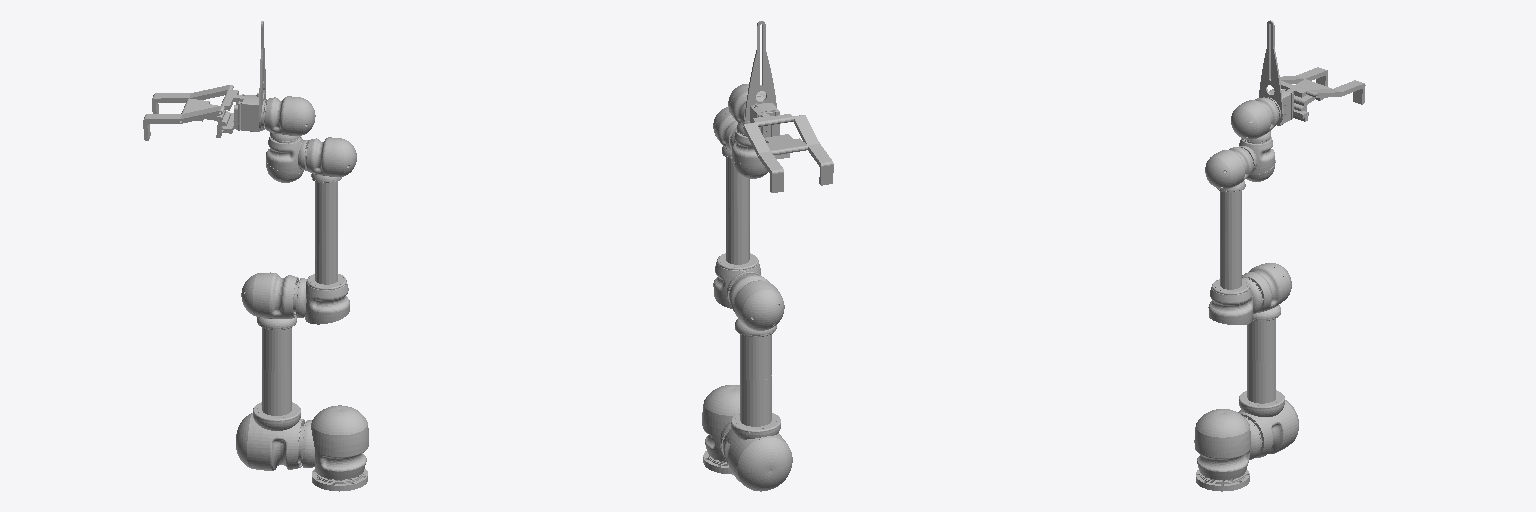
robot.urdf — jy5_v5a:
<robot name="jy5_v5a">
  <link name="Base_Link">
    <inertial>
      <origin
        xyz="2.2716E-05 1.4182E-08 0.0058667"
        rpy="0 0 0" />
      <mass value="0.13935" />
      <inertia
        ixx="0"
        ixy="0"
        ixz="0"
        iyy="0"
        iyz="0"
        izz="0" />
    </inertial>
    <visual>
      <origin
        xyz="0 0 0"
        rpy="0 0 0" />
      <geometry>
        <mesh filename="package://jy5_description/meshes/Base_Link.STL" />
      </geometry>
      <material name="">
        <color rgba="0.75294 0.75294 0.75294 1" />
      </material>
    </visual>
    <collision>
      <origin
        xyz="0 0 0"
        rpy="0 0 0" />
      <geometry>
        <mesh filename="package://jy5_description/meshes/Base_Link.STL" />
      </geometry>
    </collision>
  </link>
  <link name="Link1">
    <inertial>
      <origin
        xyz="-2.2065E-06 -0.010425 0.047723"
        rpy="0 0 0" />
      <mass
        value="0.82213" />
      <inertia
        ixx="0.0012698"
        ixy="-1.3651E-08"
        ixz="9.1896E-09"
        iyy="0.0011703"
        iyz="-6.1121E-05"
        izz="9.9506E-05" />
    </inertial>
    <visual>
      <origin
        xyz="0 0 0"
        rpy="0 0 0" />
      <geometry>
        <mesh
          filename="package://jy5_description/meshes/Link1.STL" />
      </geometry>
      <material
        name="">
        <color
          rgba="0.75294 0.75294 0.75294 1" />
      </material>
    </visual>
    <collision>
      <origin
        xyz="0 0 0"
        rpy="0 0 0" />
      <geometry>
        <mesh
          filename="package://jy5_description/meshes/Link1.STL" />
      </geometry>
    </collision>
  </link>
  <joint
    name="Joint1"
    type="revolute">
    <origin
      xyz="-0.00041285 0 0.027"
      rpy="0 0 0" />
    <parent
      link="Base_Link" />
    <child
      link="Link1" />
    <axis
      xyz="0 0 1" />
   <limit effort="30" lower="-4.1415" upper="-0.3925" velocity="1.517"/>
  </joint>
  <link
    name="Link2">
    <inertial>
      <origin
        xyz="1.2982E-06 -0.051969 0.15827"
        rpy="0 0 0" />
      <mass
        value="1.6841" />
      <inertia
        ixx="0.04641"
        ixy="8.0107E-08"
        ixz="1.535E-07"
        iyy="0.0448"
        iyz="0.00067411"
        izz="0.0016102" />
    </inertial>
    <visual>
      <origin
        xyz="0 0 0"
        rpy="0 0 0" />
      <geometry>
        <mesh
          filename="package://jy5_description/meshes/Link2.STL" />
      </geometry>
      <material
        name="">
        <color
          rgba="0.75294 0.75294 0.75294 1" />
      </material>
    </visual>
    <collision>
      <origin
        xyz="0 0 0"
        rpy="0 0 0" />
      <geometry>
        <mesh
          filename="package://jy5_description/meshes/Link2.STL" />
      </geometry>
    </collision>
  </link>
  <joint
    name="Joint2"
    type="revolute">
    <origin
      xyz="0 -0.091885 0.06"
      rpy="0 0 0" />
    <parent
      link="Link1" />
    <child
      link="Link2" />
    <axis
      xyz="0 1 0" />
    <limit effort="30" lower="-1.04" upper="1.04" velocity="1.517"/>
  </joint>
  <link
    name="Link3">
    <inertial>
      <origin
        xyz="3.32536143180385E-07 0.0615729531368279 0.155533058771834"
        rpy="0 0 0" />
      <mass
        value="0.98230112631782" />
      <inertia
        ixx="0.0189819550362105"
        ixy="3.10240510672774E-08"
        ixz="1.71022764085144E-07"
        iyy="0.0188226520390792"
        iyz="-0.000117796335989016"
        izz="0.000159303021328198" />
    </inertial>
    <visual>
      <origin
        xyz="0 0 0"
        rpy="0 0 0" />
      <geometry>
        <mesh
          filename="package://jy5_description/meshes/Link3.STL" />
      </geometry>
      <material
        name="">
        <color
          rgba="0.752941176470588 0.752941176470588 0.752941176470588 1" />
      </material>
    </visual>
    <collision>
      <origin
        xyz="0 0 0"
        rpy="0 0 0" />
      <geometry>
        <mesh
          filename="package://jy5_description/meshes/Link3.STL" />
      </geometry>
    </collision>
  </link>
  <joint
    name="Joint3"
    type="revolute">
    <origin
      xyz="0 -0.0065 0.38388"
      rpy="0 0 0" />
    <parent
      link="Link2" />
    <child
      link="Link3" />
    <axis
      xyz="0 1 0" />
    <limit effort="30" lower="-3.14" upper="0" velocity="1.517"/>
  </joint>
  <link
    name="Link4">
    <inertial>
      <origin
        xyz="5.79292420657142E-07 -0.0470319002859306 0.00891972870701374"
        rpy="0 0 0" />
      <mass
        value="0.23644132750411" />
      <inertia
        ixx="0.000147037590267084"
        ixy="8.03652582512052E-09"
        ixz="2.48900088533533E-08"
        iyy="0.000136894555463898"
        iyz="-6.35149193323197E-06"
        izz="1.01430537193422E-05" />
    </inertial>
    <visual>
      <origin
        xyz="0 0 0"
        rpy="0 0 0" />
      <geometry>
        <mesh
          filename="package://jy5_description/meshes/Link4.STL" />
      </geometry>
      <material
        name="">
        <color
          rgba="0.752941176470588 0.752941176470588 0.752941176470588 1" />
      </material>
    </visual>
    <collision>
      <origin
        xyz="0 0 0"
        rpy="0 0 0" />
      <geometry>
        <mesh
          filename="package://jy5_description/meshes/Link4.STL" />
      </geometry>
    </collision>
  </link>
  <joint
    name="Joint4"
    type="revolute">
    <origin
      xyz="0 0.02 0.3765"
      rpy="0 0 0" />
    <parent
      link="Link3" />
    <child
      link="Link4" />
    <axis
      xyz="0 1 0" />
    <limit effort="30" lower="0" upper="3.14" velocity="1.517"/>
  </joint>
  <link
    name="Link5">
    <inertial>
      <origin
        xyz="-5.79292558179406E-07 -0.00891972870701405 0.0470319002859311"
        rpy="0 0 0" />
      <mass
        value="0.236441327504109" />
      <inertia
        ixx="0.000147037590267086"
        ixy="2.48900087540034E-08"
        ixz="8.0365258207577E-09"
        iyy="1.01430537193419E-05"
        iyz="-6.35149193323599E-06"
        izz="0.0001368945554639" />
    </inertial>
    <visual>
      <origin
        xyz="0 0 0"
        rpy="0 0 0" />
      <geometry>
        <mesh
          filename="package://jy5_description/meshes/Link5.STL" />
      </geometry>
      <material
        name="">
        <color
          rgba="0.752941176470588 0.752941176470588 0.752941176470588 1" />
      </material>
    </visual>
    <collision>
      <origin
        xyz="0 0 0"
        rpy="0 0 0" />
      <geometry>
        <mesh
          filename="package://jy5_description/meshes/Link5.STL" />
      </geometry>
    </collision>
  </link>
  <joint
    name="Joint5"
    type="revolute">
    <origin
      xyz="0 -0.052500000000007 0.0477499999457901"
      rpy="0 0 0" />
    <parent
      link="Link4" />
    <child
      link="Link5" />
    <axis
      xyz="0 0 1" />
    <limit effort="30" lower="-3.14" upper="3.14" velocity="1.517"/>
  </joint>
  <link
    name="Gripper">
    <inertial>
      <origin
        xyz="-8.16087745465083E-07 -0.103592357705251 0.00378110908229212"
        rpy="0 0 0" />
      <mass
        value="0.615509551415261" />
      <inertia
        ixx="0.00356137129682163"
        ixy="-5.24952668709655E-07"
        ixz="9.17336024605919E-06"
        iyy="0.000881606494233563"
        iyz="-0.000414706577528412"
        izz="0.00387514661031009" />
    </inertial>
    <visual>
      <origin
        xyz="0 0 0"
        rpy="0 0 0" />
      <geometry>
        <mesh
          filename="package://jy5_description/meshes/Gripper.STL" />
      </geometry>
      <material
        name="">
        <color
          rgba="0.752941176470588 0.752941176470588 0.752941176470588 1" />
      </material>
    </visual>
    <collision>
      <origin
        xyz="0 0 0"
        rpy="0 0 0" />
      <geometry>
        <mesh
          filename="package://jy5_description/meshes/Gripper.STL" />
      </geometry>
    </collision>
  </link>
  <joint
    name="Joint6"
    type="revolute">
    <origin
      xyz="0 -0.04775 0.0525"
      rpy="0 0 0" />
    <parent
      link="Link5" />
    <child
      link="Gripper" />
    <axis
      xyz="0 1 0" />
    <limit effort="30" lower="-3.14" upper="3.14" velocity="1.517"/>
  </joint>
</robot>

--- Render facts (derived) ---
3 views of the same robot in one strip: view 1: azimuth 30°, elevation 25°; view 2: azimuth 150°, elevation 25°; view 3: azimuth 270°, elevation 25° (orthographic).
Model jy5_v5a with 7 links and 6 joints (6 revolute), rooted at Base_Link, posed joints at zero except 1 at the middle of their limits (Joint1 = -2.27).
Links seen in each view (by area): view 1: Link2, Link3, Link1, Gripper, Link5, Link4; view 2: Link2, Gripper, Link3, Link1, Link4, Link5; view 3: Link2, Link3, Link1, Gripper, Link5, Link4.
Link boxes in pixels (x1,y1,x2,y2): Link2: (236,272,307,470); Link3: (297,137,356,324); Link1: (303,405,368,483); Gripper: (143,21,265,140); Link5: (261,96,315,141); Link4: (266,136,306,182); Link2: (722,272,792,491); Gripper: (743,21,833,192); Link3: (713,106,760,308); Link1: (702,385,739,465); Link4: (730,129,767,178); Link5: (728,84,765,134); Link2: (1238,263,1298,457); Link3: (1205,147,1261,324); Link1: (1194,409,1260,483); Gripper: (1259,20,1365,125); Link5: (1231,97,1280,141); Link4: (1239,137,1275,181).
Bounding box of the posed robot: 0.4744 × 0.4255 × 1.19 m (x, y, z).
7 mesh visuals loaded from 7 distinct referenced files (7 binary STL).
